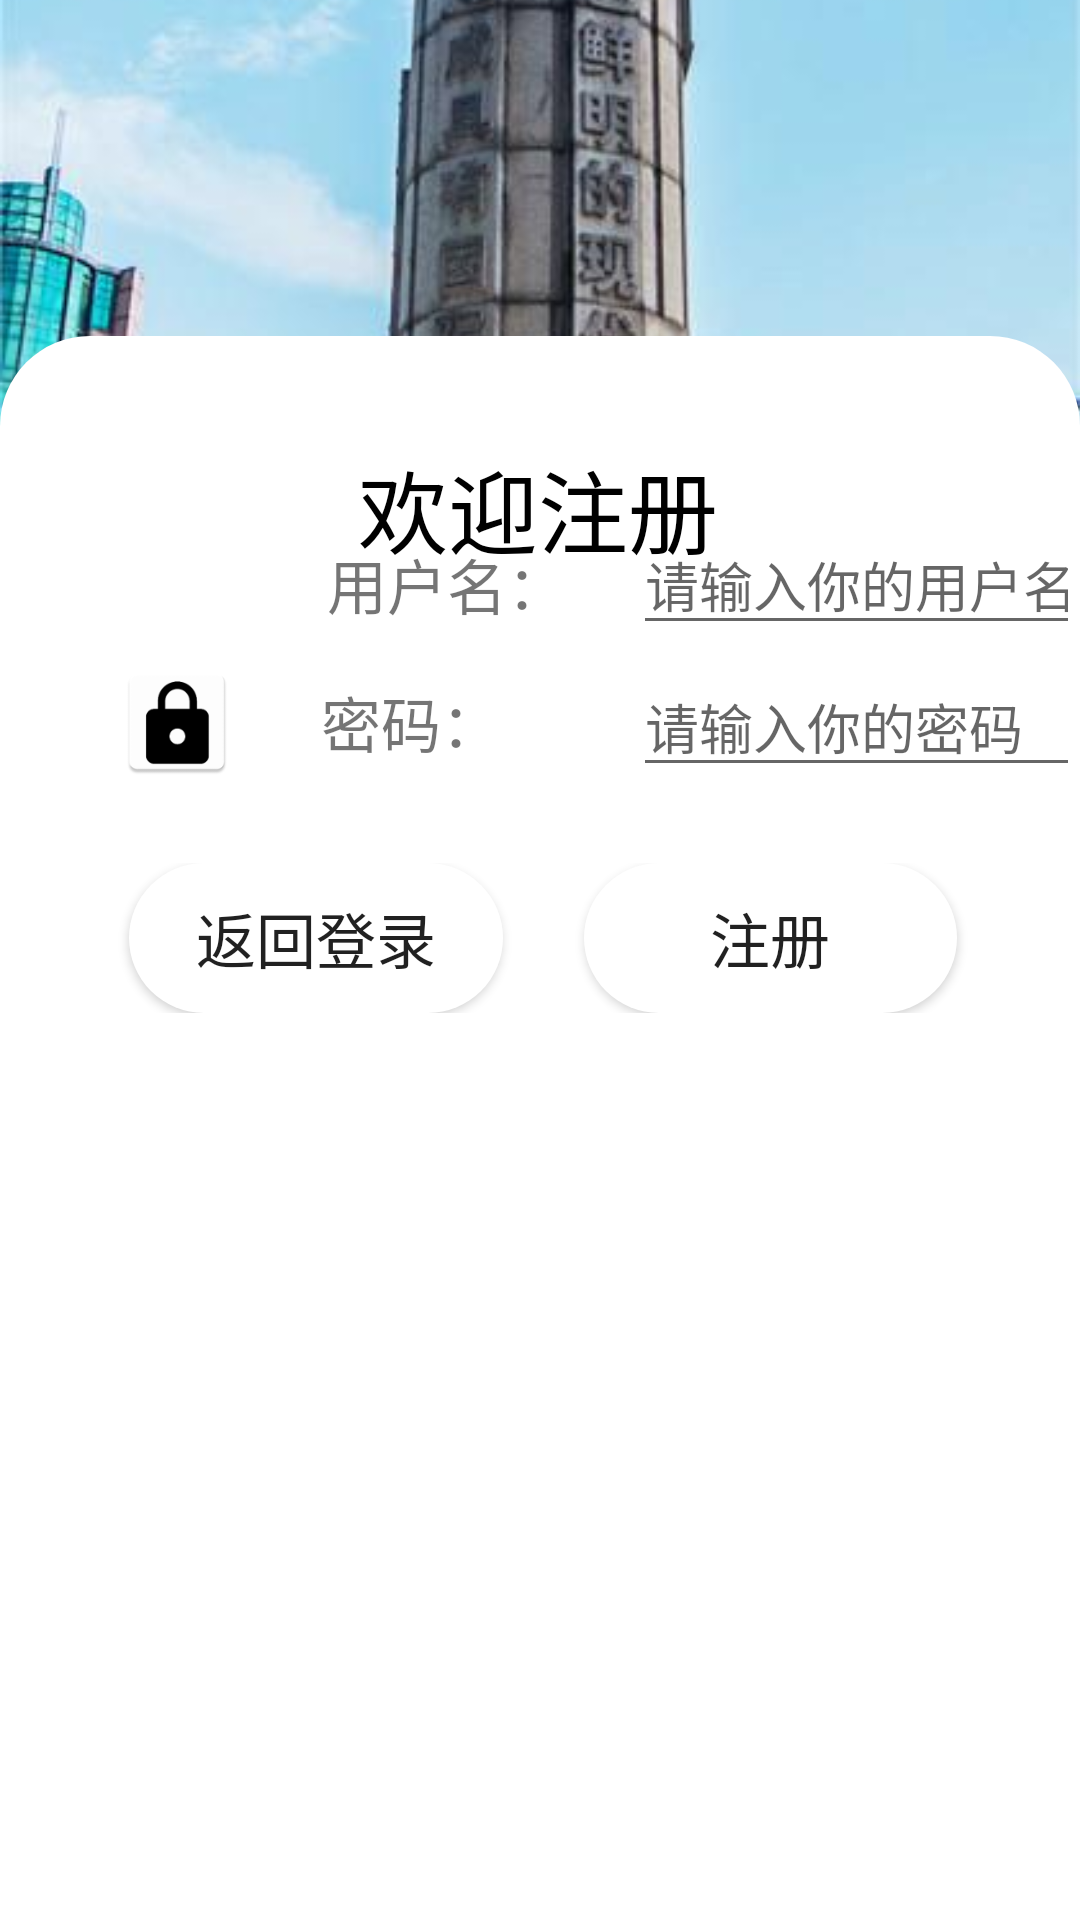

Where to tap for icons on this 1080 × 1920 app screen, as (x=x, y=y):
password: (x=177, y=727)
